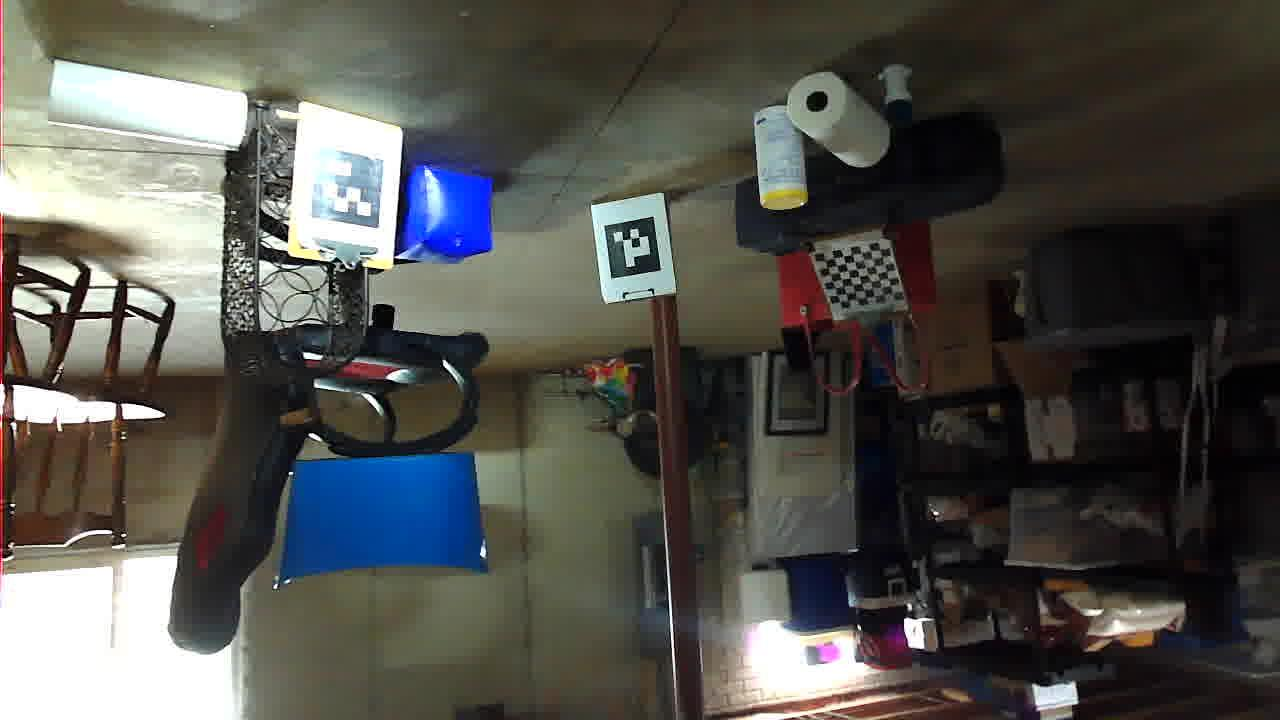coral: (1033, 567, 1232, 661)
